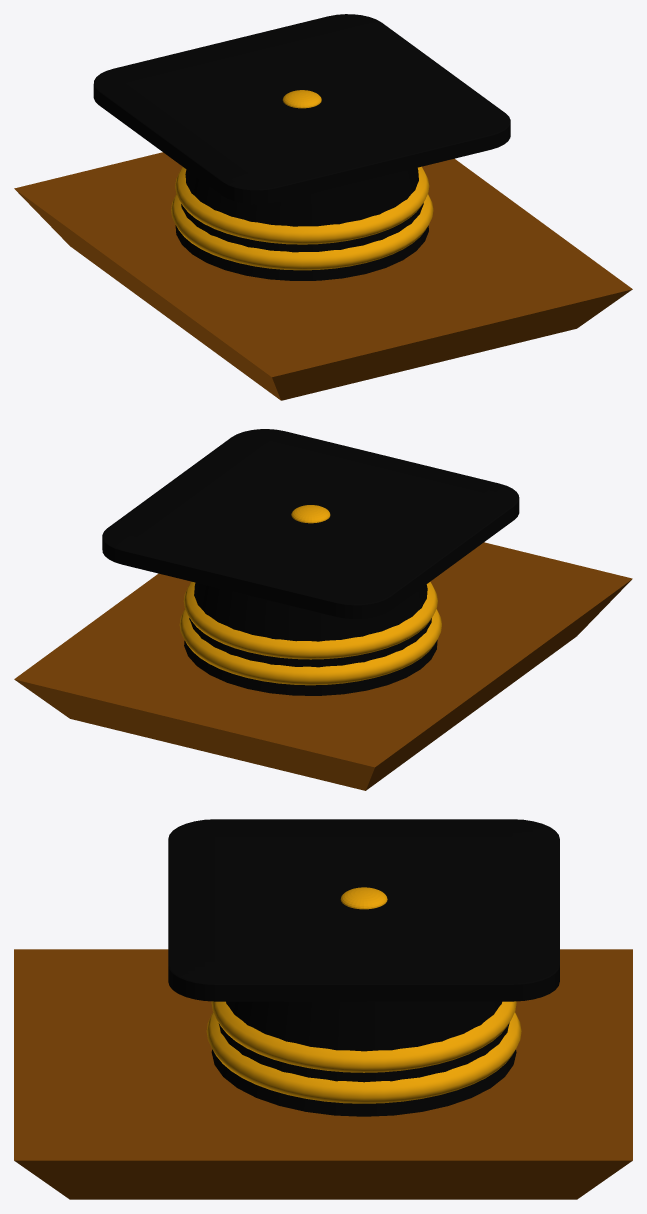
The model's file is educations.gltf.
3 views of the same model, one above another, from view 1: azimuth 30°, elevation 25°; view 2: azimuth 150°, elevation 25°; view 3: azimuth 270°, elevation 25° (orthographic). The views are drawn at different scales.
Parts seen in each view (by area): view 1: etagere, Cube.007, Torus.001, Sphere; view 2: etagere, Cube.007, Torus.001, Sphere; view 3: etagere, Cube.007, Torus.001, Sphere.
Boxes of the visible parts, left/top/right/bottom form: etagere: left=14, top=152, right=632, bottom=400; Cube.007: left=93, top=14, right=510, bottom=204; Torus.001: left=171, top=166, right=433, bottom=280; Sphere: left=282, top=90, right=321, bottom=108; etagere: left=14, top=542, right=632, bottom=790; Cube.007: left=102, top=429, right=519, bottom=619; Torus.001: left=179, top=581, right=441, bottom=695; Sphere: left=291, top=505, right=330, bottom=523; etagere: left=14, top=949, right=632, bottom=1199; Cube.007: left=168, top=819, right=559, bottom=1001; Torus.001: left=206, top=1001, right=521, bottom=1116; Sphere: left=340, top=887, right=387, bottom=909.
Bounding box in the file's own units: 0.7477 × 0.3598 × 0.9252.
